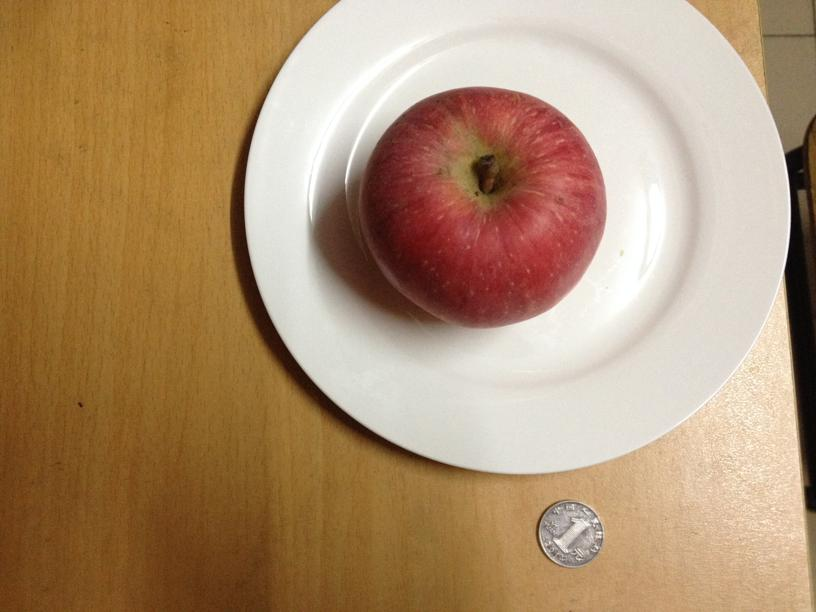apple: (360, 82, 606, 329)
coin: (539, 500, 604, 566)
